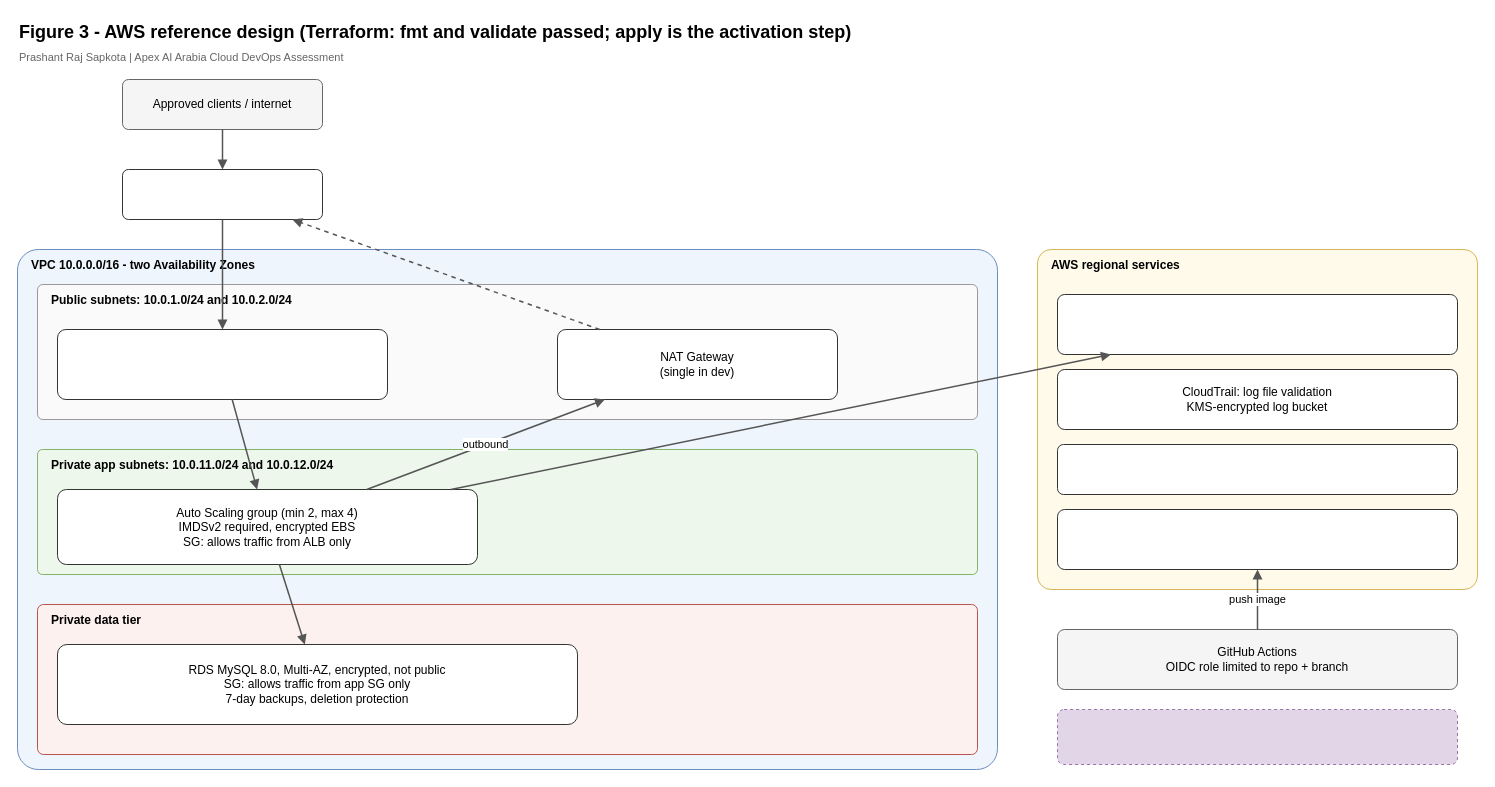
Image size: 1495x787. Some labels were removed from this diagram. The centre of each missing label's shape, as x and y in pixels:
Application Load Balancer SG: 80/443 from internet: [222,364]
Defined as code by Terraform S3 remote state with lock file: [1257,736]
ECR: immutable tags scan on push: [1257,539]
Internet Gateway: [222,194]
S3: versioned, public access blocked KMS key with rotation: [1257,324]
Systems Manager instance access: [1257,469]
